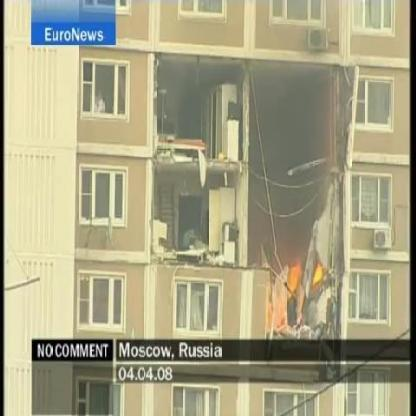fire: (284, 256, 304, 304), (313, 262, 326, 292)
